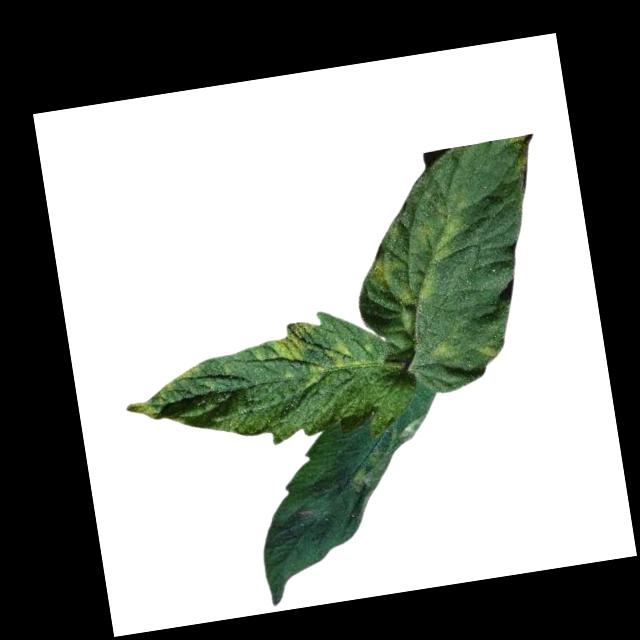Leaf_Mold: (344, 414, 435, 495), (413, 195, 477, 264), (263, 319, 318, 365), (361, 254, 404, 289), (324, 335, 360, 371), (124, 394, 163, 424), (431, 335, 465, 361), (299, 361, 327, 388), (478, 339, 500, 359)
